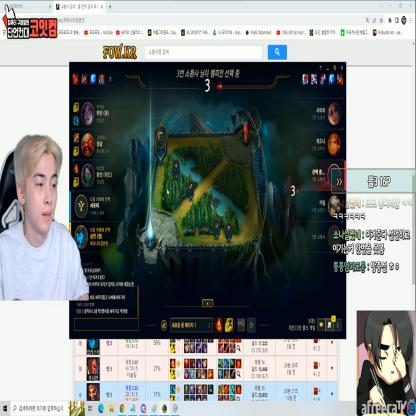streamer: (1, 133, 90, 301)
